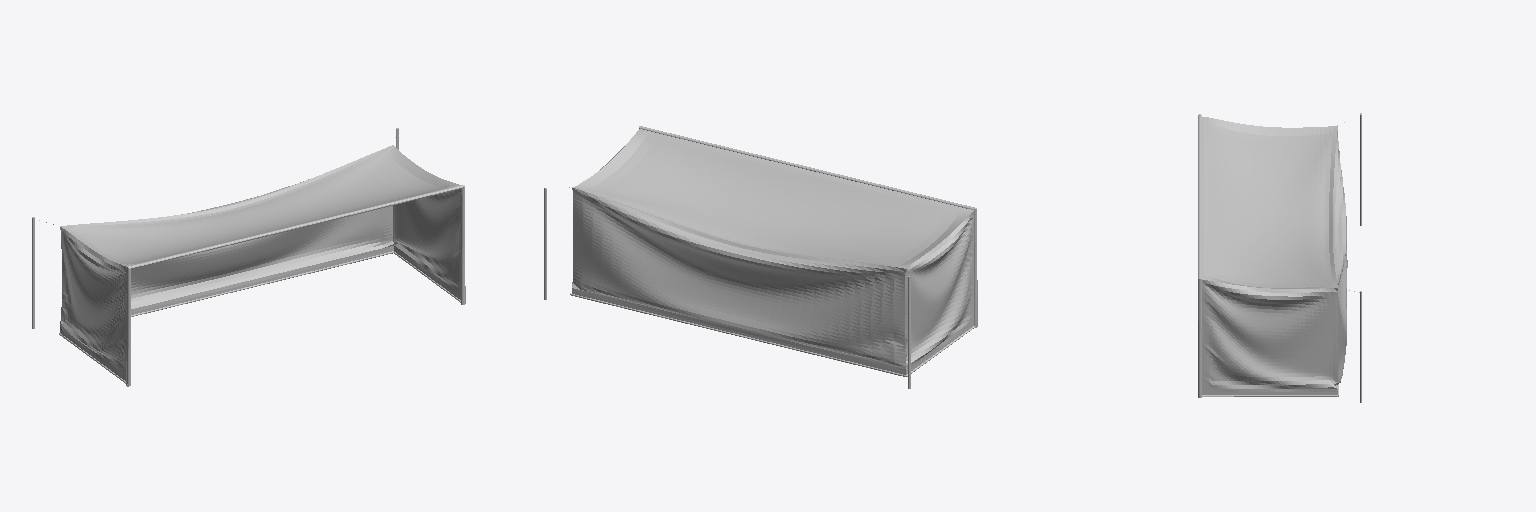
File: cage.obj
3 renders of one model, left to right at view 1: azimuth 30°, elevation 25°; view 2: azimuth 150°, elevation 25°; view 3: azimuth 270°, elevation 25°, orthographic.
Visible parts, largest first — view 1: Suspended_Goalpost; view 2: Suspended_Goalpost; view 3: Suspended_Goalpost.
Part boxes in pixels (bbox=[...]): Suspended_Goalpost: bbox=[32, 128, 465, 386]; Suspended_Goalpost: bbox=[544, 126, 977, 388]; Suspended_Goalpost: bbox=[1198, 113, 1361, 402].
Size of the model in its own units: 7.95 by 2.47 by 3.09.